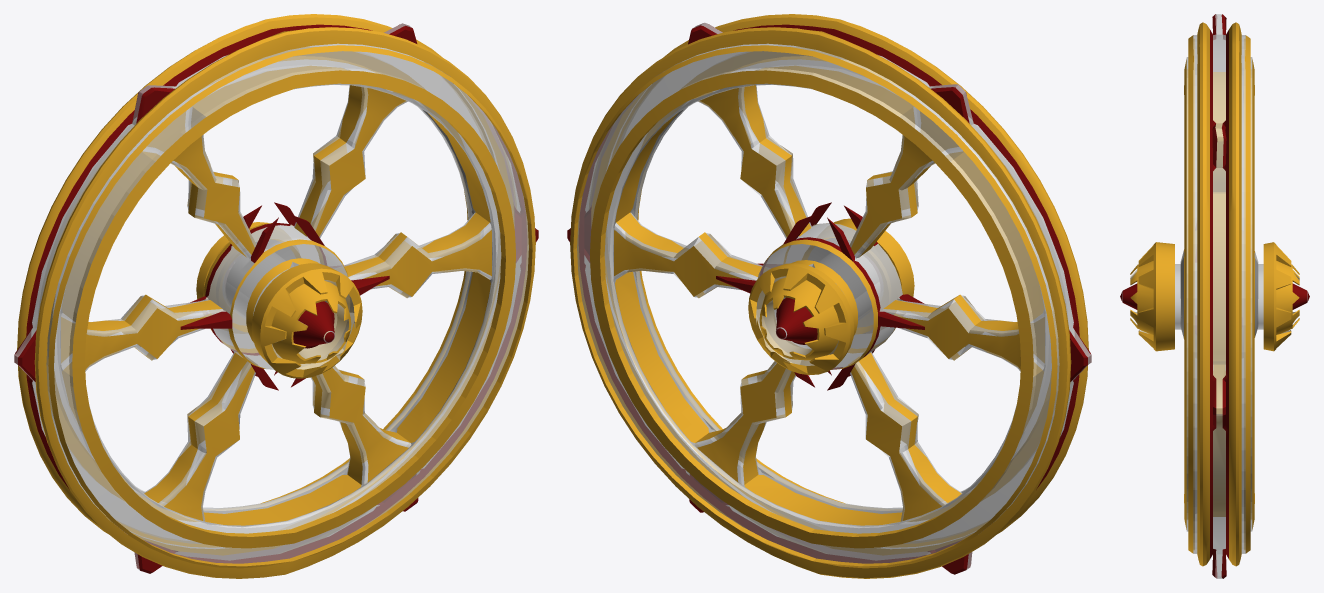
File: WheelBoss_02.fbx
3 renders of one model, left to right at view 1: azimuth 30°, elevation 25°; view 2: azimuth 150°, elevation 25°; view 3: azimuth 270°, elevation 25°, orthographic. The views are drawn at different scales.
Visible parts, largest first — view 1: wheelBoss; view 2: wheelBoss; view 3: wheelBoss.
Part boxes in pixels (x1=…): wheelBoss: x1=14, y1=14, x2=538, y2=578; wheelBoss: x1=567, y1=14, x2=1091, y2=578; wheelBoss: x1=1120, y1=14, x2=1309, y2=578.
Bounding box in the file's own units: 7.88 × 7.84 × 2.69.
